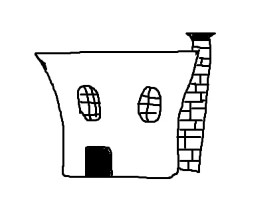chimney: (181, 27, 217, 83)
closed_window: (130, 79, 163, 129), (69, 81, 104, 125)
door: (80, 143, 121, 182)
single_line_roof: (19, 46, 201, 64)
wall: (42, 64, 199, 189)
